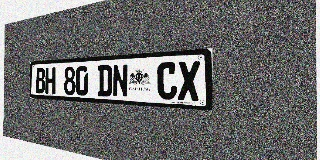0: (76, 66, 88, 96)
8: (64, 66, 75, 95)
B: (36, 68, 45, 94)
C: (157, 62, 177, 100)
D: (98, 65, 112, 97)
H: (45, 67, 56, 94)
N: (112, 64, 128, 98)
X: (178, 61, 200, 101)
